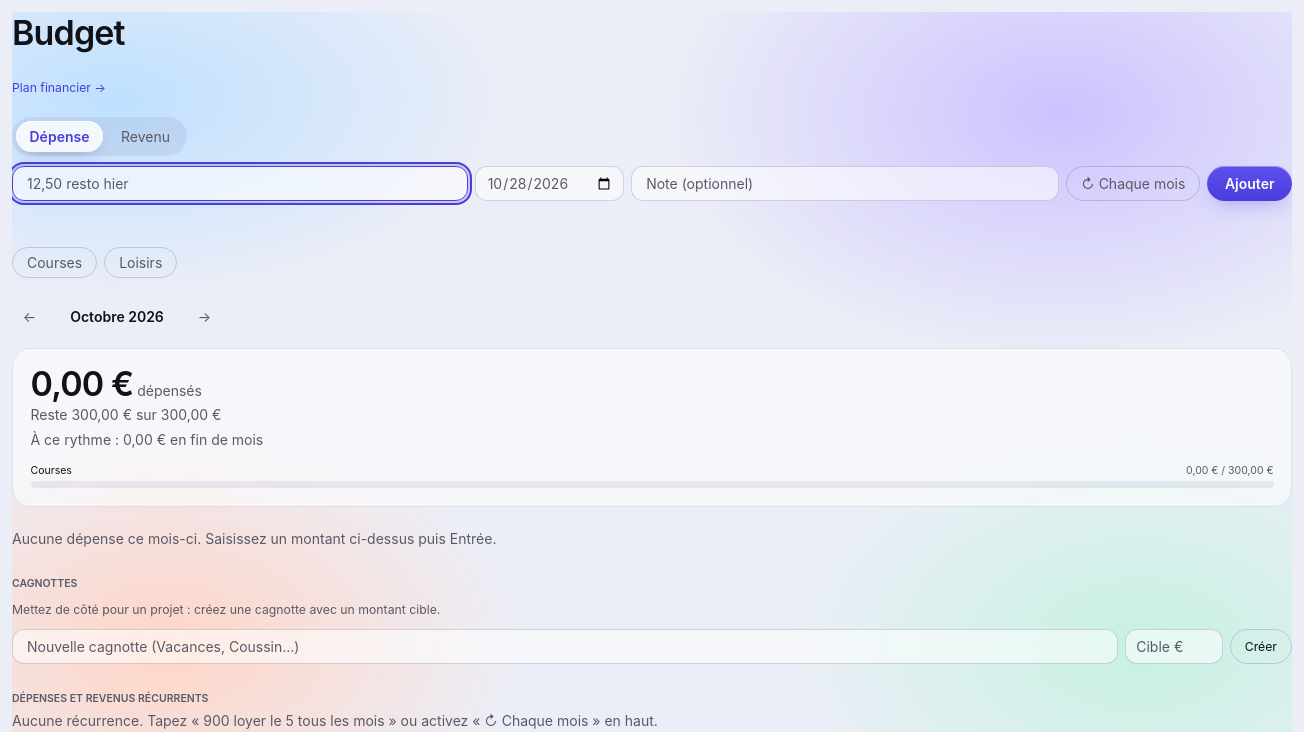
Test: BudgetPage › navigue entre les mois
Expected: the button "Courses" is shown, [12,246,97,278]
Click the button named "Mois précédent": click(30, 316) [12,299,47,334]
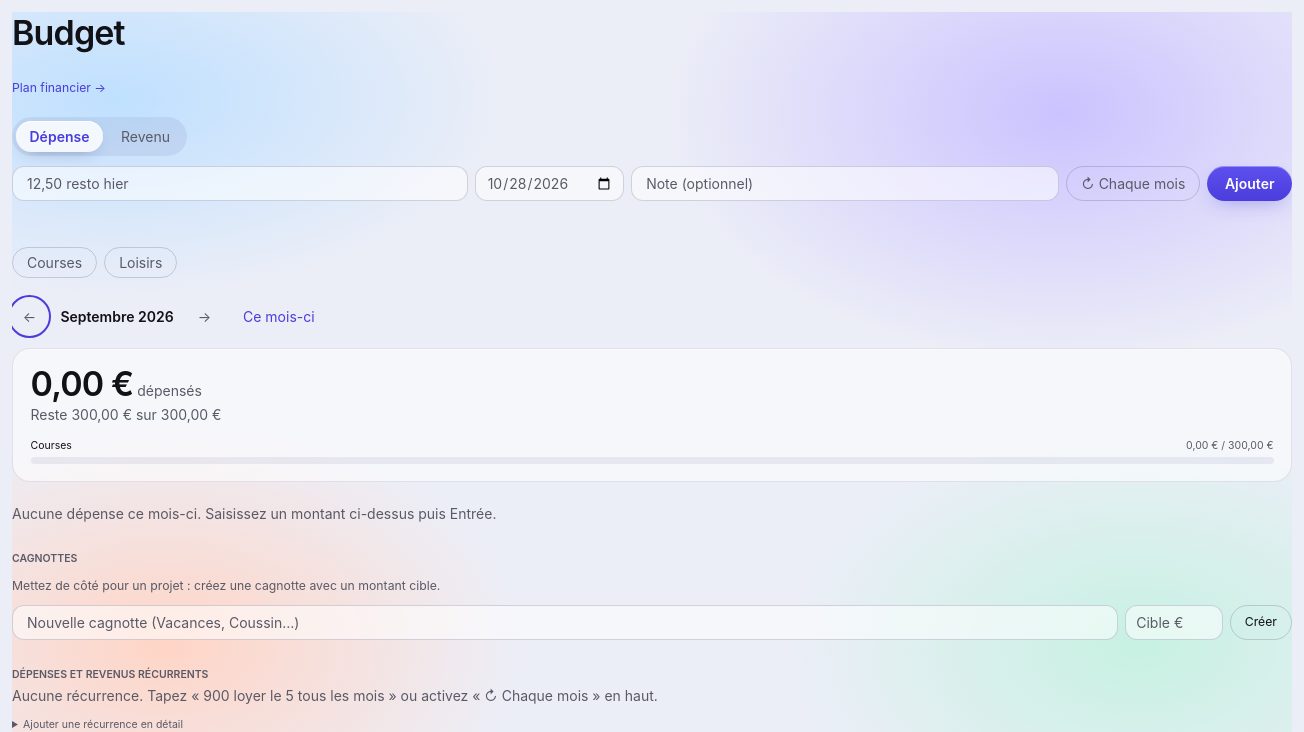
Now the button "Ce mois-ci" is shown, box [229,301,329,332]
